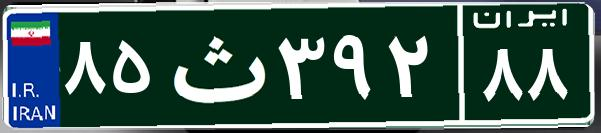2: (385, 28, 445, 110)
3: (273, 28, 330, 110)
5: (110, 28, 158, 105)
8: (57, 26, 110, 107), (475, 38, 525, 113), (525, 38, 570, 115)
9: (330, 28, 385, 110)
ث: (158, 15, 273, 115)
